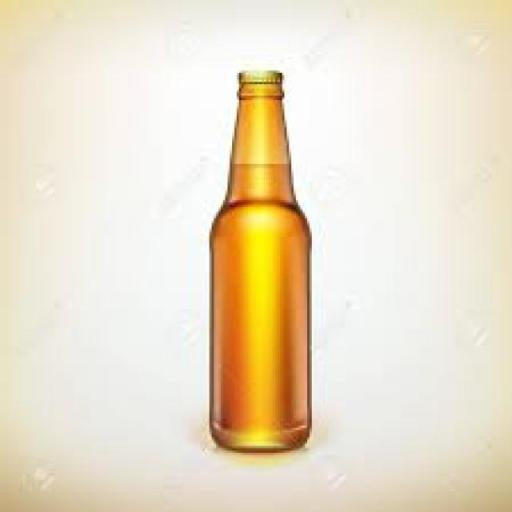glass: (186, 61, 332, 458)
